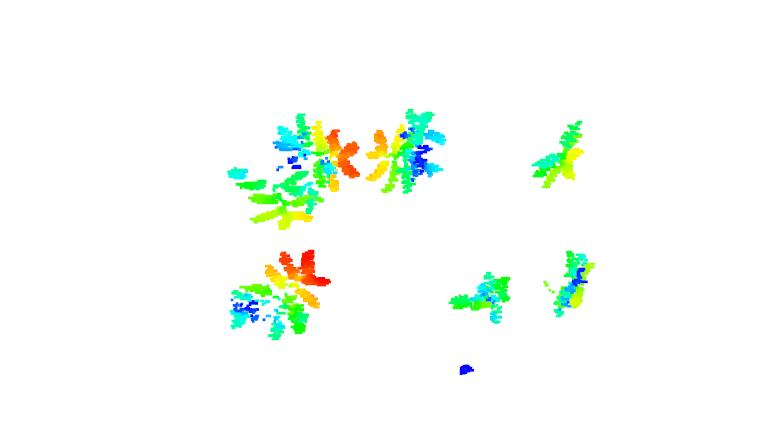chickpea: (224, 246, 332, 341), (365, 105, 450, 195), (270, 111, 366, 184), (226, 166, 320, 230), (530, 117, 591, 191), (450, 267, 516, 327), (550, 246, 597, 318)
